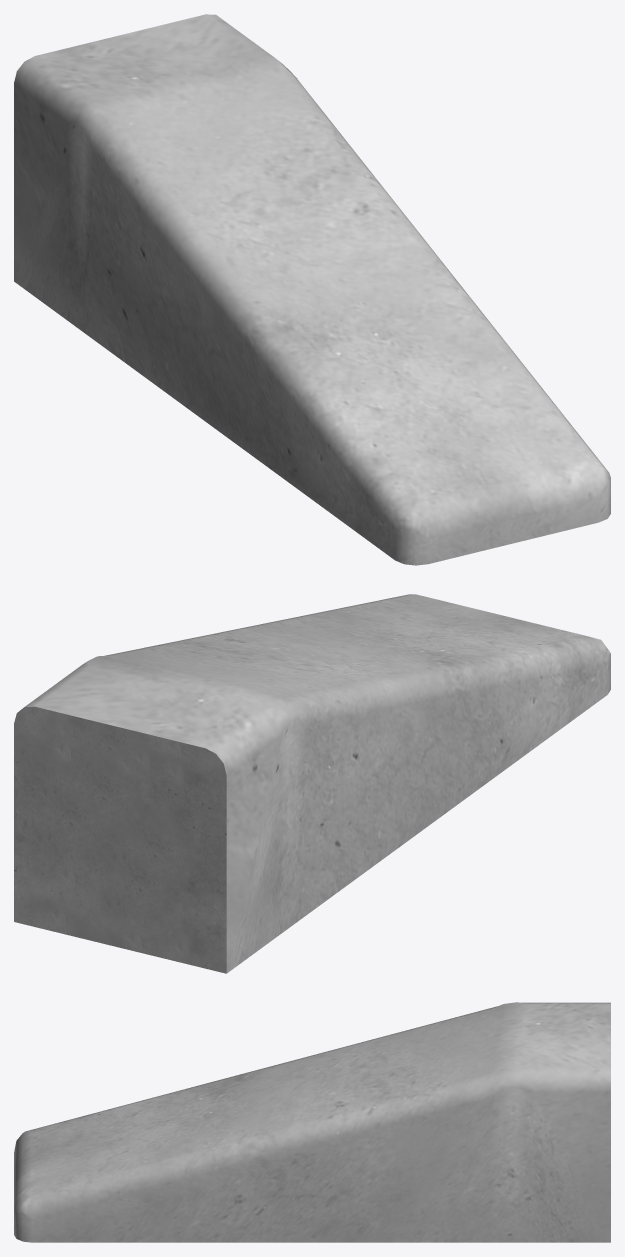
Rendered from enseki_01.fbx.
The picture shows the model from 3 angles, top to bottom: view 1: azimuth 30°, elevation 25°; view 2: azimuth 150°, elevation 25°; view 3: azimuth 270°, elevation 25°; orthographic projection. The views are drawn at different scales.
Parts seen in each view (by area): view 1: Empty_Mesh; view 2: Empty_Mesh; view 3: Empty_Mesh.
Part boxes in pixels (x1,y1,x2,y2): Empty_Mesh: [14, 14, 610, 565]; Empty_Mesh: [14, 594, 610, 973]; Empty_Mesh: [14, 1002, 610, 1242].
Bounding box in the file's own units: 0.1521 × 0.1507 × 0.4873.
